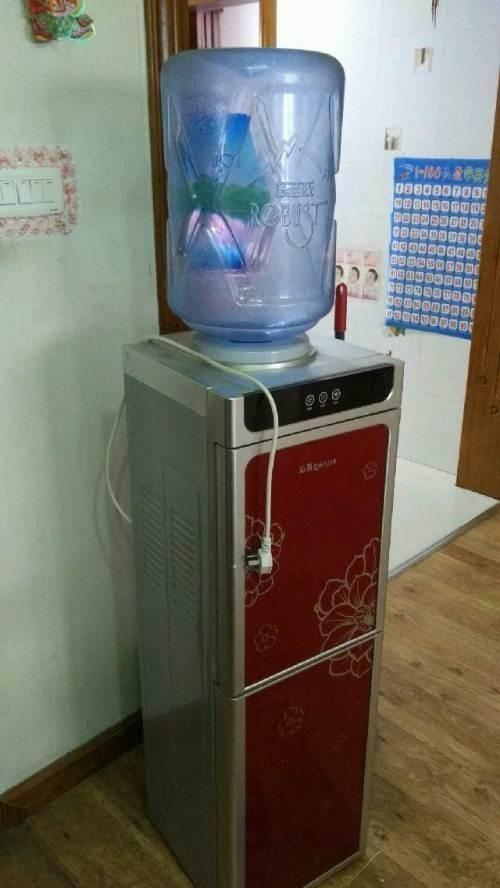Dispenser: (118, 46, 405, 887)
